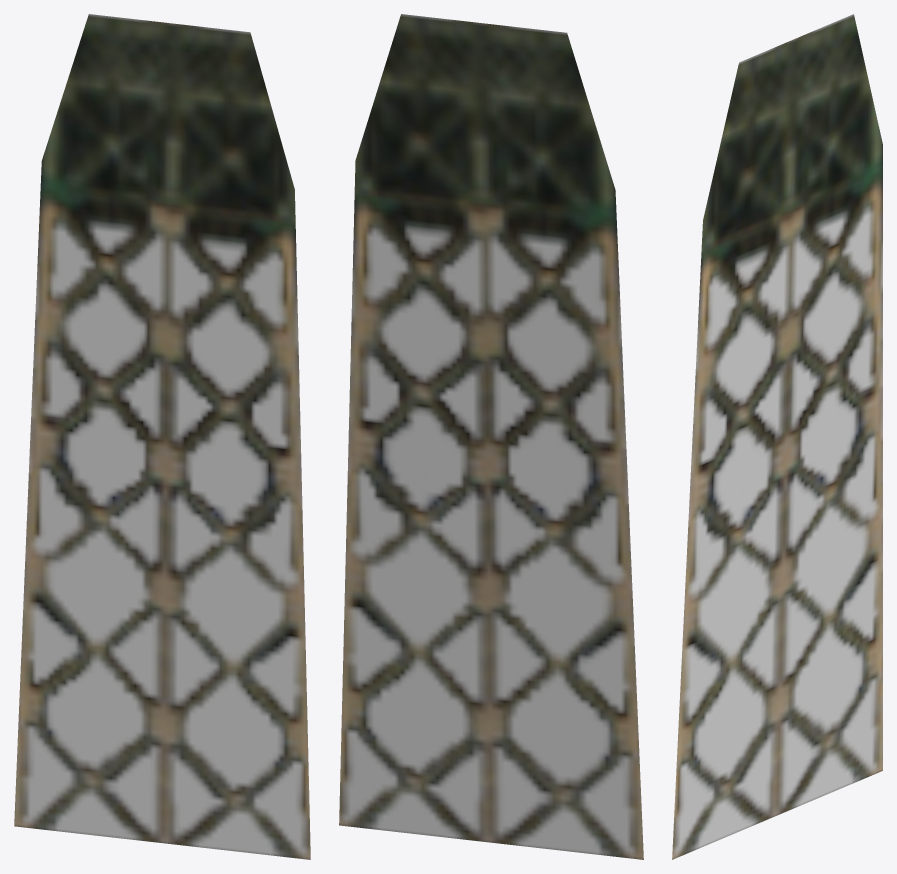
The model's file is 埃菲尔铁塔54.dae.
3 views of the same model, side by side, from view 1: azimuth 30°, elevation 25°; view 2: azimuth 210°, elevation 25°; view 3: azimuth 270°, elevation 25° (orthographic). The views are drawn at different scales.
Visible parts, largest first — view 1: SketchUp; view 2: SketchUp; view 3: SketchUp.
Part boxes in pixels (bbox=[...]): SketchUp: bbox=[14, 14, 310, 859]; SketchUp: bbox=[339, 14, 643, 859]; SketchUp: bbox=[672, 14, 882, 859].
Bounding box in the file's own units: 465 × 465 × 1909.
Materials: 1 (1 with a texture image).
